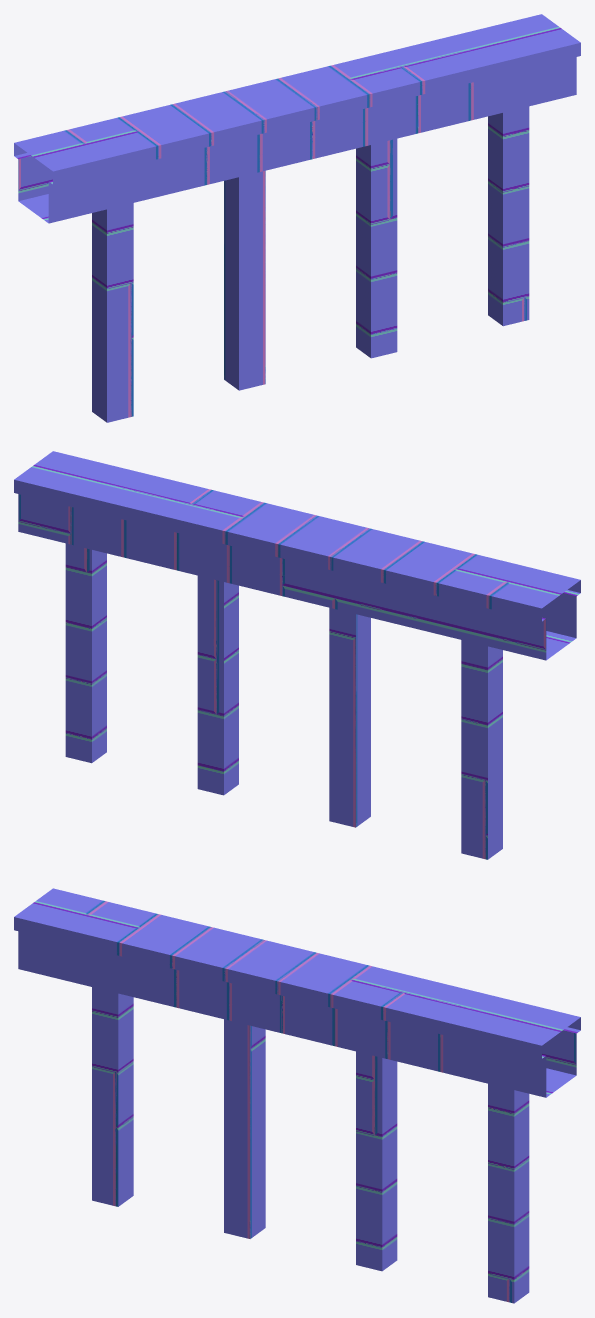
The model's file is Railing.fbx.
3 renders of one model, top to bottom at view 1: azimuth 30°, elevation 25°; view 2: azimuth 150°, elevation 25°; view 3: azimuth 330°, elevation 25°, orthographic.
Parts seen in each view (by area): view 1: Railing_Combined; view 2: Railing_Combined; view 3: Railing_Combined.
Boxes of the visible parts, x1=… form: Railing_Combined: x1=14, y1=14, x2=580, y2=422; Railing_Combined: x1=14, y1=451, x2=580, y2=859; Railing_Combined: x1=14, y1=888, x2=580, y2=1303.
Size of the model in its own units: 200 by 100 by 25.67.
